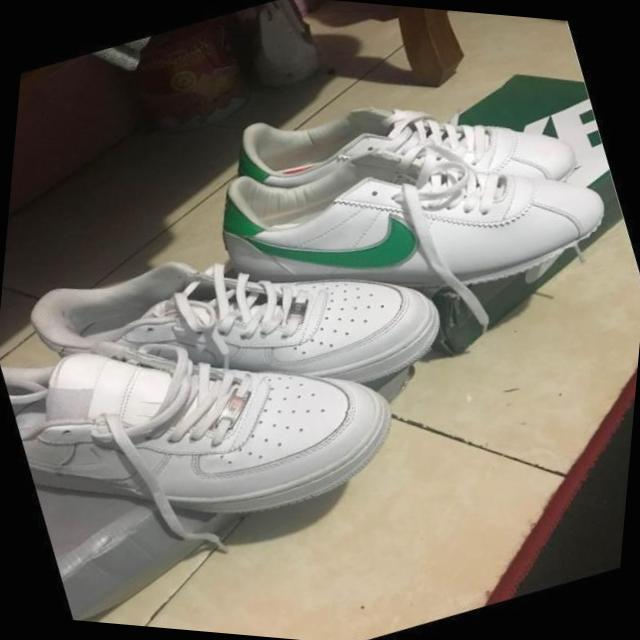nike_fake_airforce: (0, 143, 477, 506), (0, 235, 428, 602)
